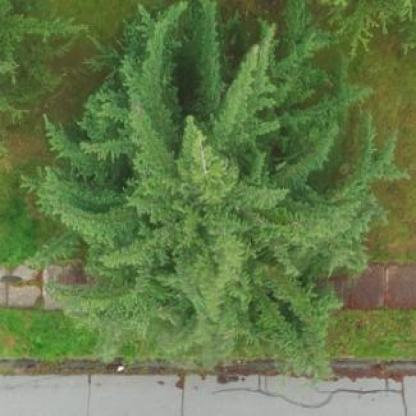Coniferous Tree: (31, 0, 370, 354)
